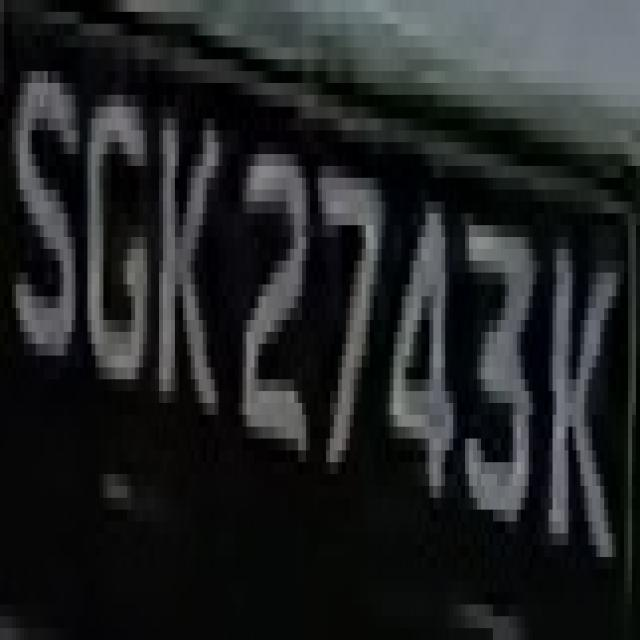2: (223, 107, 322, 474)
3: (453, 154, 537, 569)
4: (374, 142, 457, 545)
7: (298, 142, 378, 510)
G: (76, 24, 151, 426)
K: (143, 47, 219, 486), (541, 190, 612, 604)
S: (12, 12, 79, 403)
